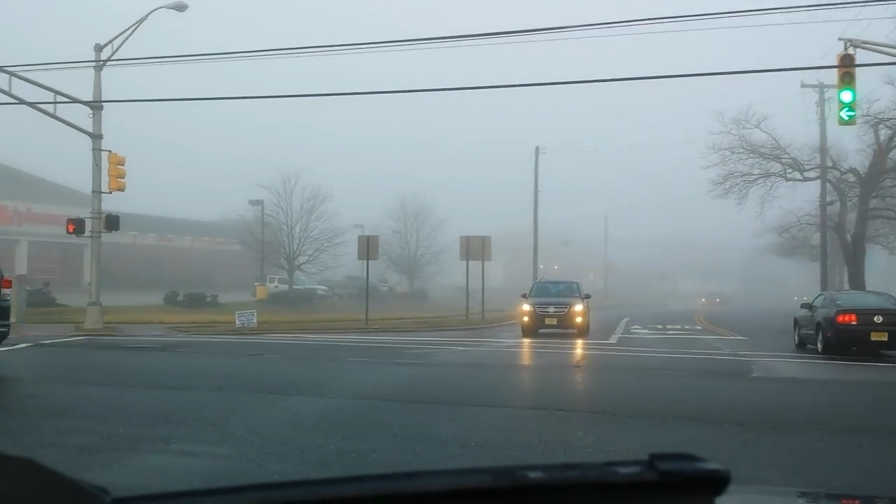car: (793, 290, 896, 359), (520, 275, 592, 341), (251, 270, 328, 303), (700, 290, 726, 306)
